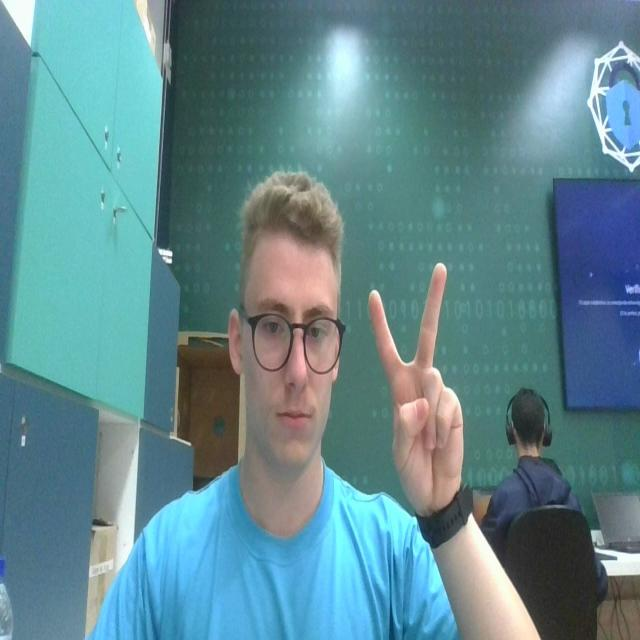V: (364, 256, 468, 502)
